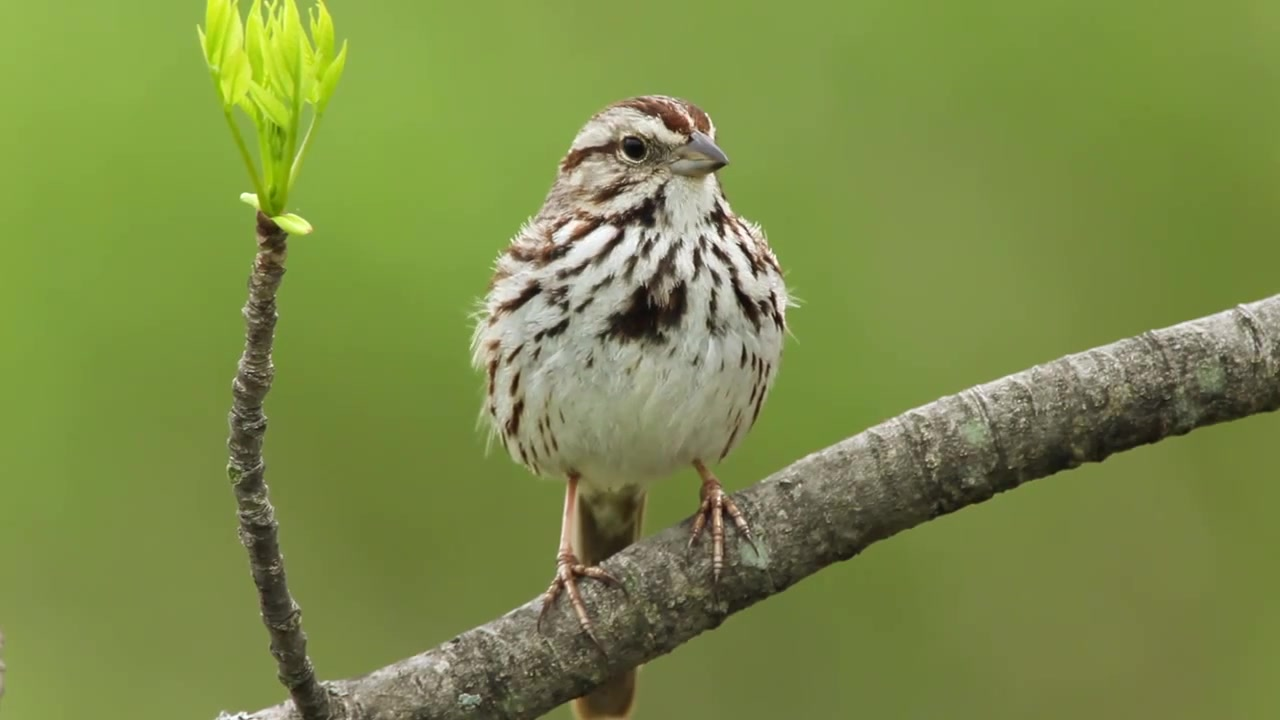bird: (471, 91, 806, 720)
